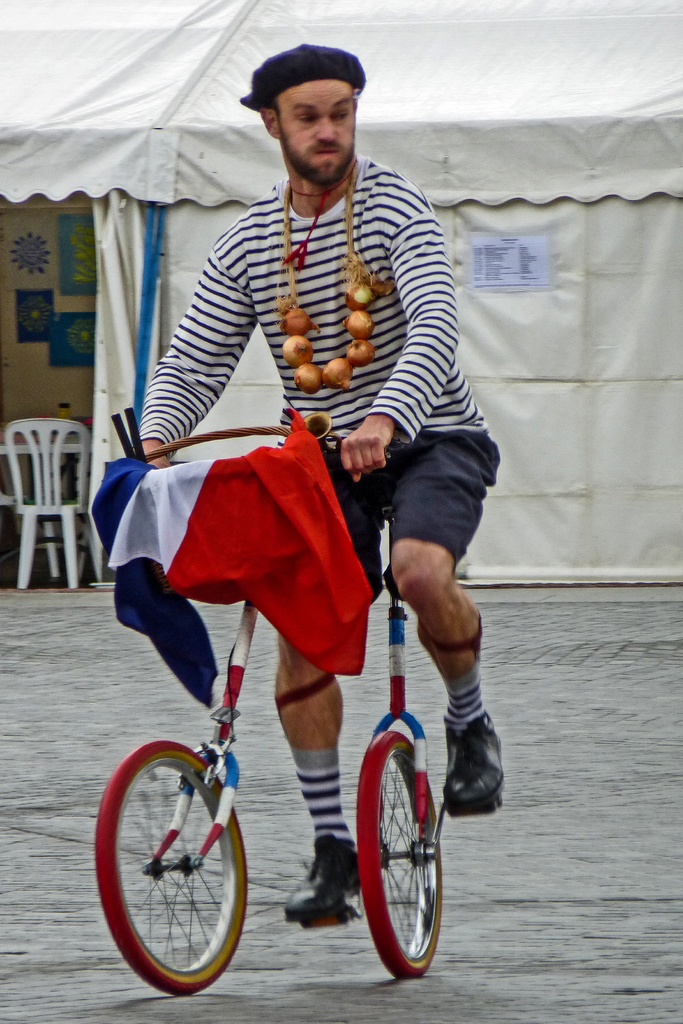Person: (129, 43, 503, 921)
